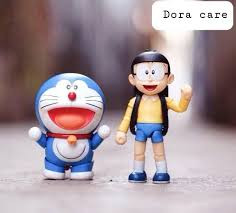doraemon: (27, 71, 111, 182)
